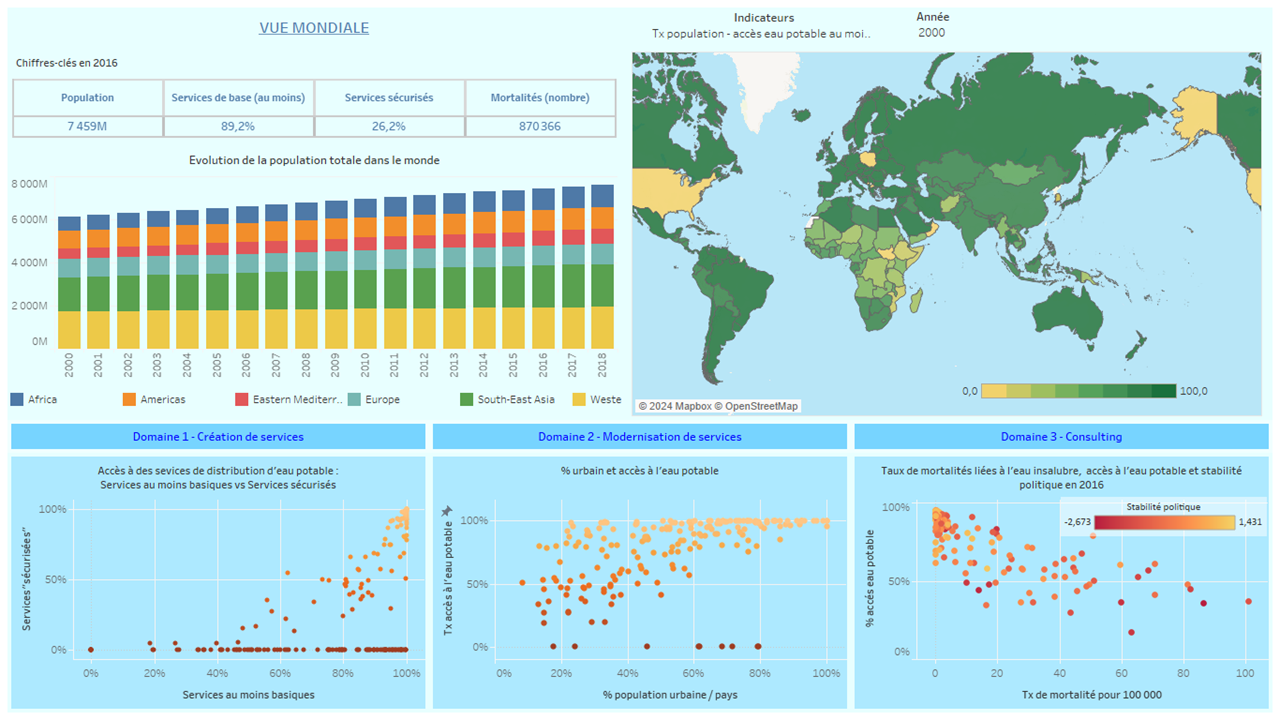

The dashboard page shown, as its layout file describes it:
{"tool":"tableau","page":{"name":"Vue mondiale","canvas":[1366,768],"ordinal":2},"visuals":[{"type":"text","box":[8,8,655,40.8]},{"type":"worksheet","title":"Map_mesures","mark":"Automatic","box":[663,8,695,440]},{"type":"filter","title":"basic vs safely","param":"[federated.0x5vb430hlh33i1bver7x1gej1g4].[none:Year:ok]","box":[978,8,368,57]},{"type":"parameter","param":"[Parameters].[Paramètre 1]","box":[694,9,243,47]},{"type":"worksheet","title":"Chiffres_cles","mark":"Automatic","box":[8,48.8,655,103.2]},{"type":"worksheet","title":"Pop_evolution","mark":"Bar","rows":["Population - Total"],"cols":["Year (copie)_2356508544261877762"],"box":[8,152,655,264]},{"type":"legend","title":"Map_mesures","param":"[federated.0x5vb430hlh33i1bver7x1gej1g4].[min:Calculation_1815513638679154689:qk","box":[1023,405,271,36]},{"type":"legend","title":"Pop_evolution","param":"[federated.0x5vb430hlh33i1bver7x1gej1g4].[none:Region:nk]","box":[8,416,655,32]},{"type":"text","box":[8,448,450,35]},{"type":"text","box":[458,448,450,35]},{"type":"text","box":[908,448,450,35]},{"type":"worksheet","title":"basic vs safely","mark":"Automatic","rows":["Total- Population % - Safely Managed WD Services"],"cols":["Total- Population % - Basic WD Services"],"box":[8,483,450,277]},{"type":"worksheet","title":"pop_urban_basicsWDS","mark":"Automatic","rows":["Total- Population % - Basic WD Services"],"cols":["Calculation_1128151745532628993"],"box":[458,483,450,277]},{"type":"worksheet","title":"Tx_morta_efficacite_politique","mark":"Automatic","rows":["Calculation_2356508544249933824 1"],"cols":["Total - Mortality rate unsafe WASH"],"box":[908,483,450,277]},{"type":"legend","title":"Tx_morta_efficacite_politique","param":"[federated.0x5vb430hlh33i1bver7x1gej1g4].[avg:Political_Stability:qk]","box":[1132,530,220,42]}]}

Visuals, with their boxes in screenshot pixels (x1, y1, x2, y2), scaled from the page's 1366x768 canvas onto the 1280x720 screenshot:
text: BBox(7, 8, 621, 46)
"Map_mesures" worksheet: BBox(621, 8, 1273, 420)
"basic vs safely" filter: BBox(916, 8, 1261, 61)
parameter: BBox(650, 8, 878, 52)
"Chiffres_cles" worksheet: BBox(7, 46, 621, 142)
"Pop_evolution" worksheet (Bar marks): BBox(7, 142, 621, 390)
"Map_mesures" legend: BBox(959, 380, 1213, 413)
"Pop_evolution" legend: BBox(7, 390, 621, 420)
text: BBox(7, 420, 429, 453)
text: BBox(429, 420, 851, 453)
text: BBox(851, 420, 1273, 453)
"basic vs safely" worksheet: BBox(7, 453, 429, 712)
"pop_urban_basicsWDS" worksheet: BBox(429, 453, 851, 712)
"Tx_morta_efficacite_politique" worksheet: BBox(851, 453, 1273, 712)
"Tx_morta_efficacite_politique" legend: BBox(1061, 497, 1267, 536)
